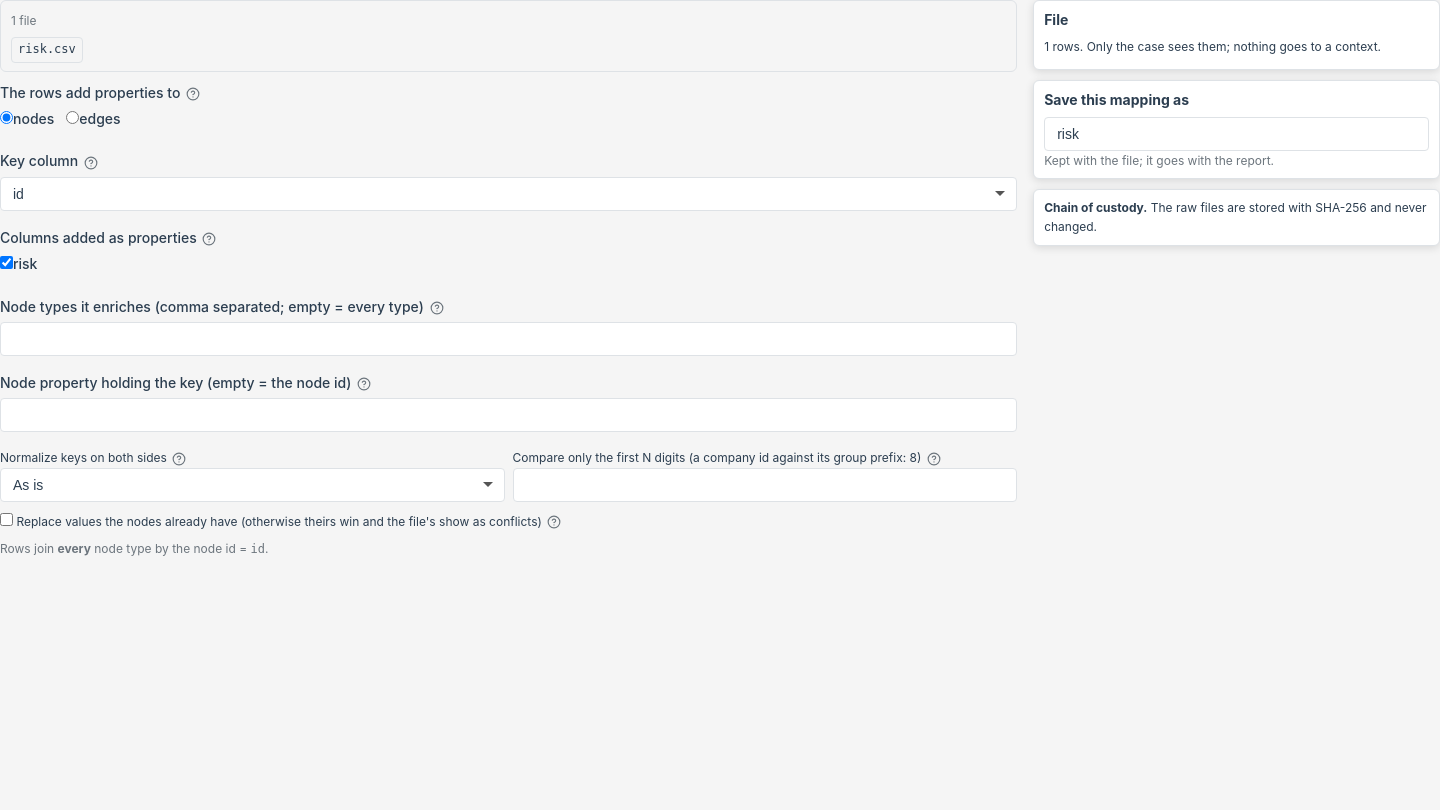
MappingStep — help (BYOD-2) › explains each enrichment setting in a popover
The width and height of the screenshot is (1440, 810).
Click the button with test id "help-enrich-normalize". click: (179, 459)
box: [170,452,188,466]
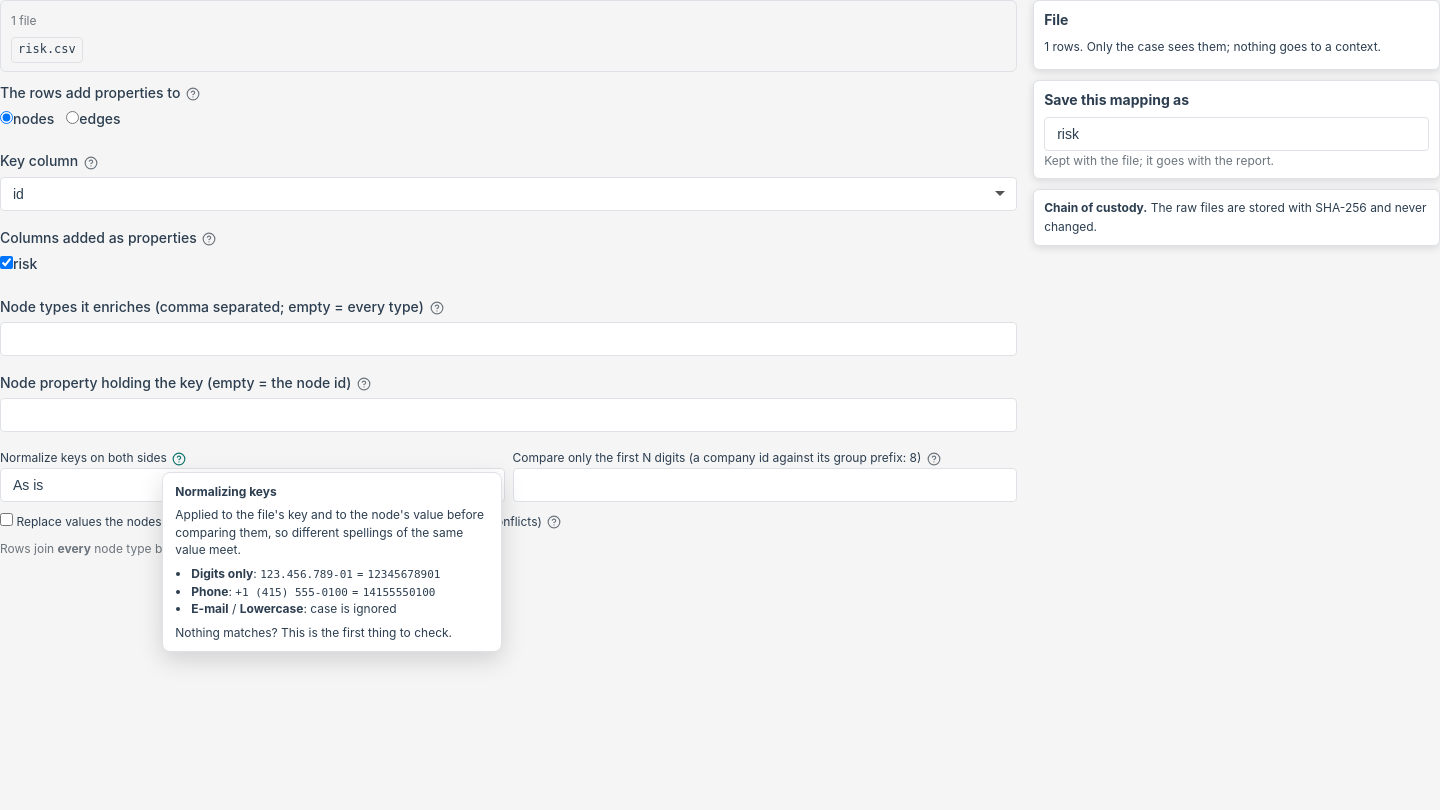
Expected: the dialog with test id "help-enrich-normalize-text" shows "14155550100", [363,586,436,598]
